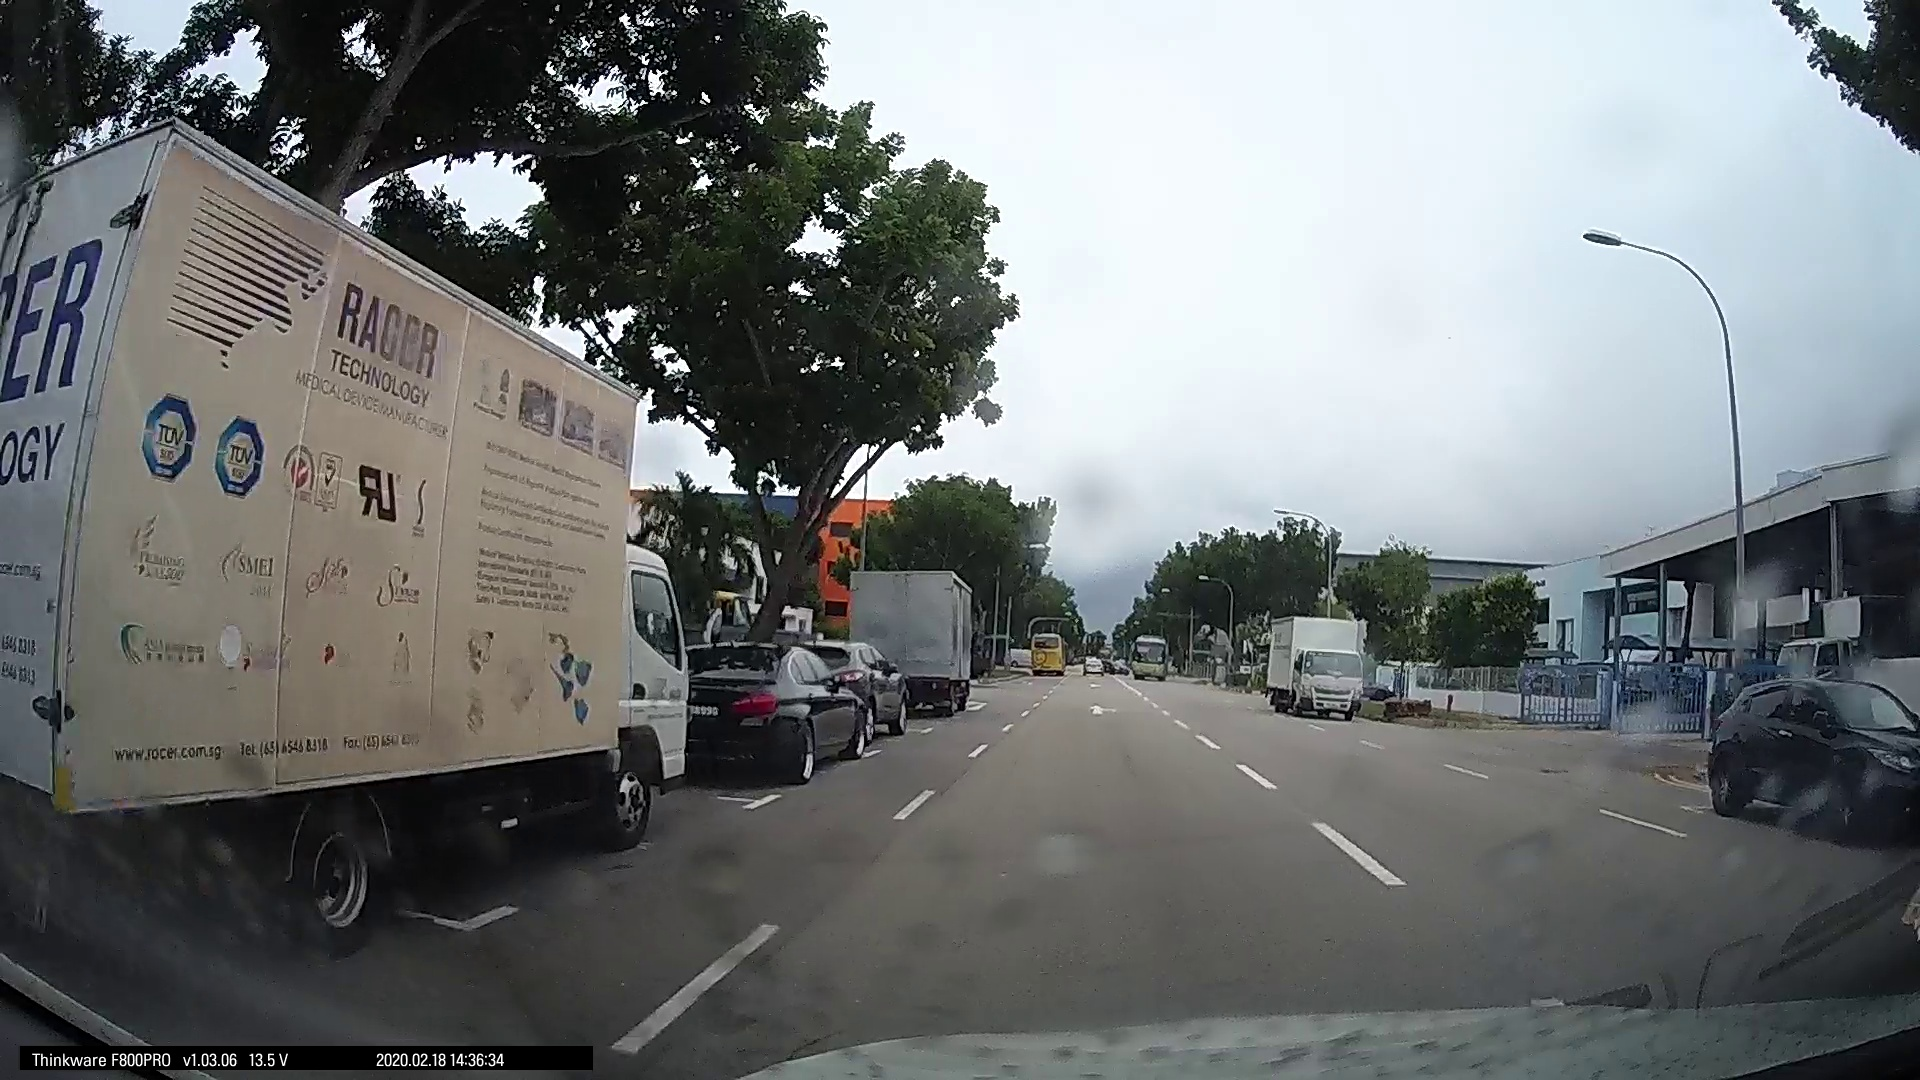Heavy Vehicle: (12, 135, 663, 952), (844, 560, 981, 723), (1254, 612, 1365, 720)
Light Vehicle: (1702, 669, 1916, 833), (676, 634, 862, 785), (820, 636, 905, 738)
